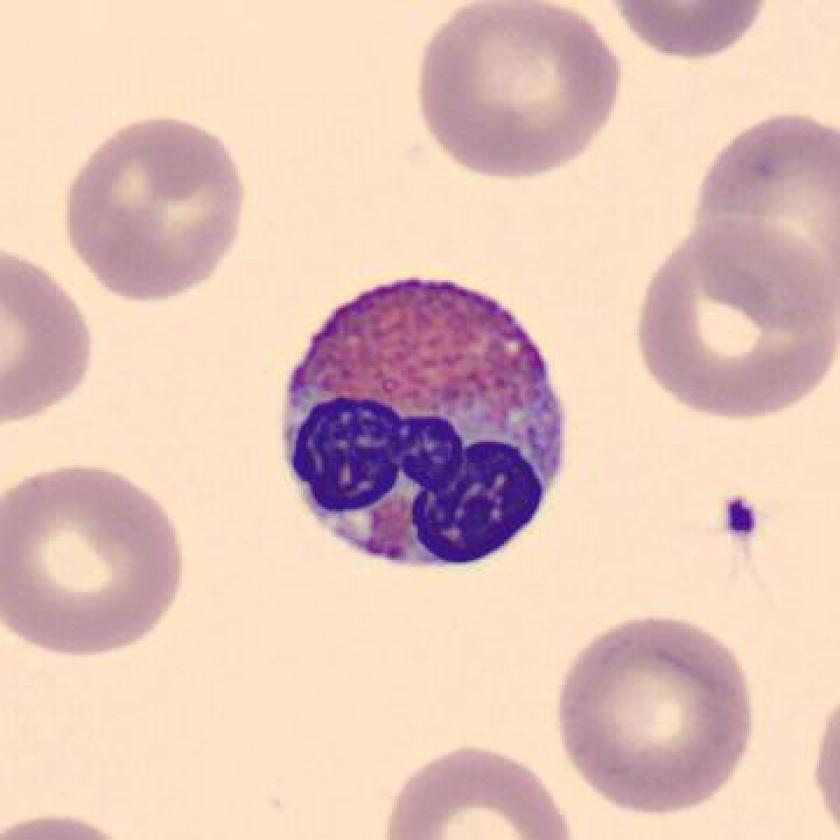eosinophil: (270, 265, 585, 584)
